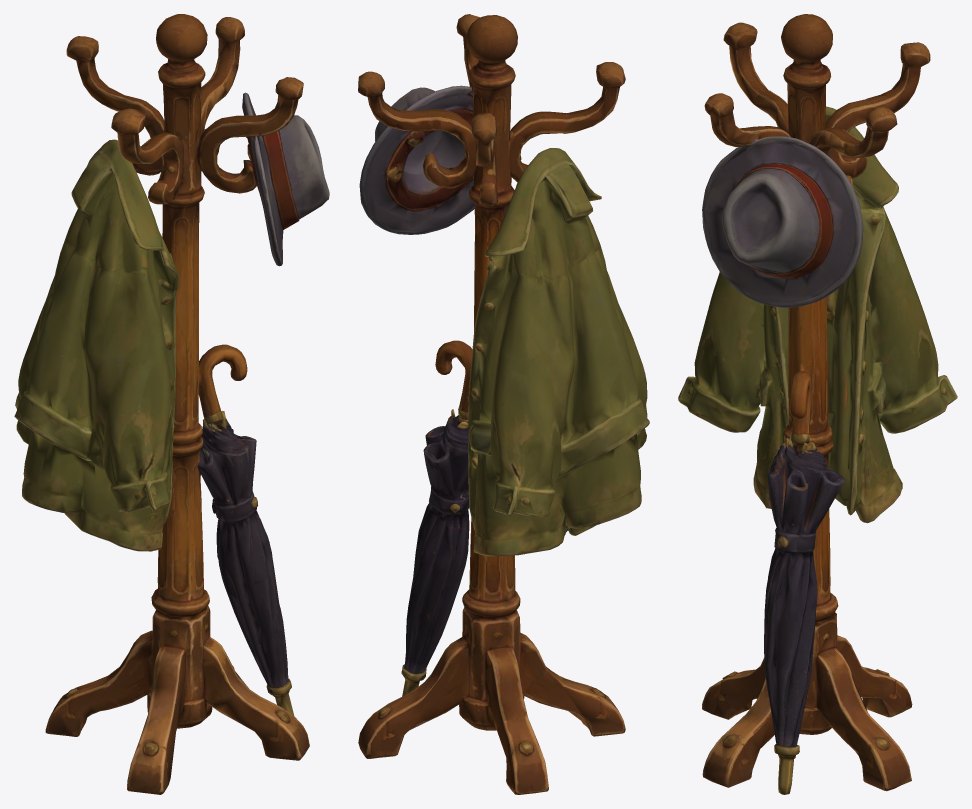
File: d_coatrack.glb
3 views of the same model, side by side, from view 1: azimuth 30°, elevation 25°; view 2: azimuth 150°, elevation 25°; view 3: azimuth 270°, elevation 25° (orthographic).
Bounding box in the file's own units: 0.7774 × 1.91 × 0.661.
Materials: 1 (1 with a texture image).
